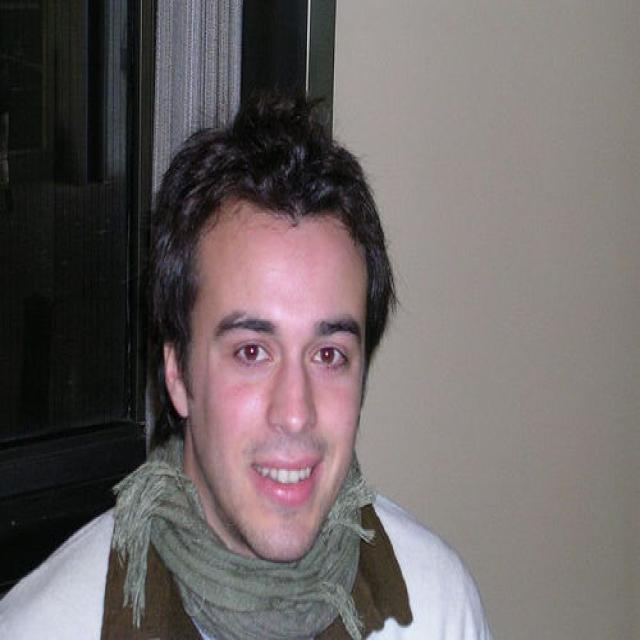person: (1, 90, 498, 639)
